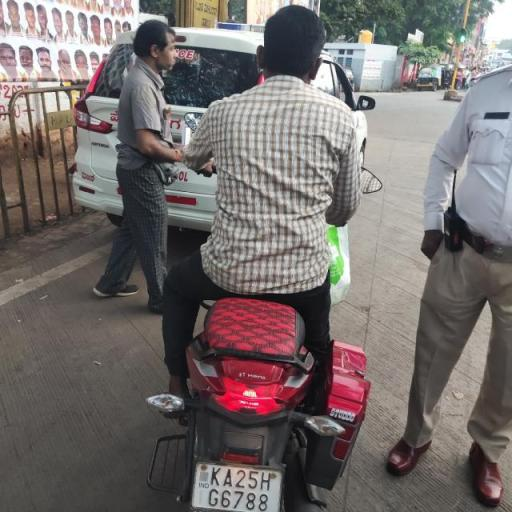bike: (148, 3, 406, 512)
numberplate: (197, 462, 281, 512)
withouthelmet: (258, 5, 324, 81)
